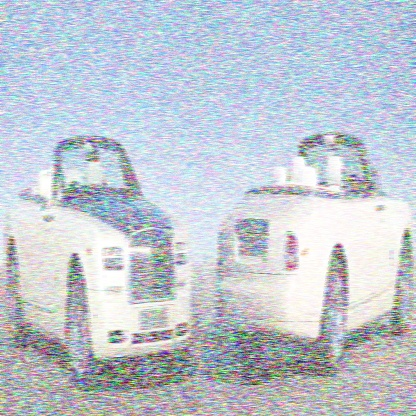Vehicle: (0, 4, 416, 414)
